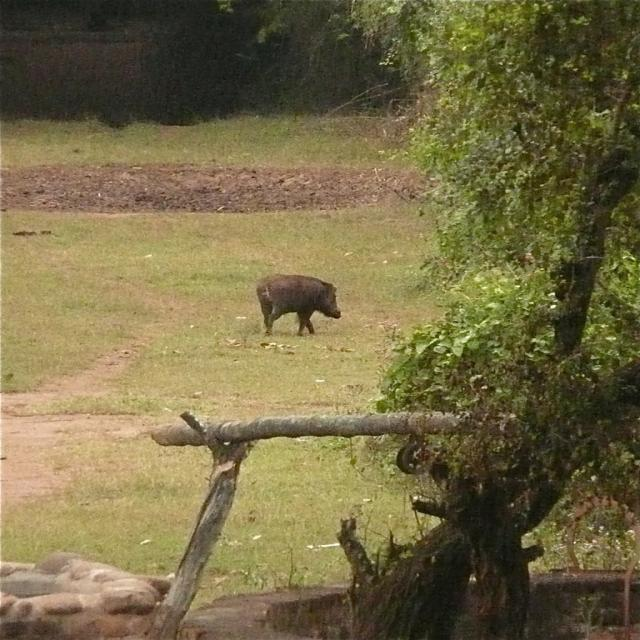Pig: (255, 272, 344, 338)
